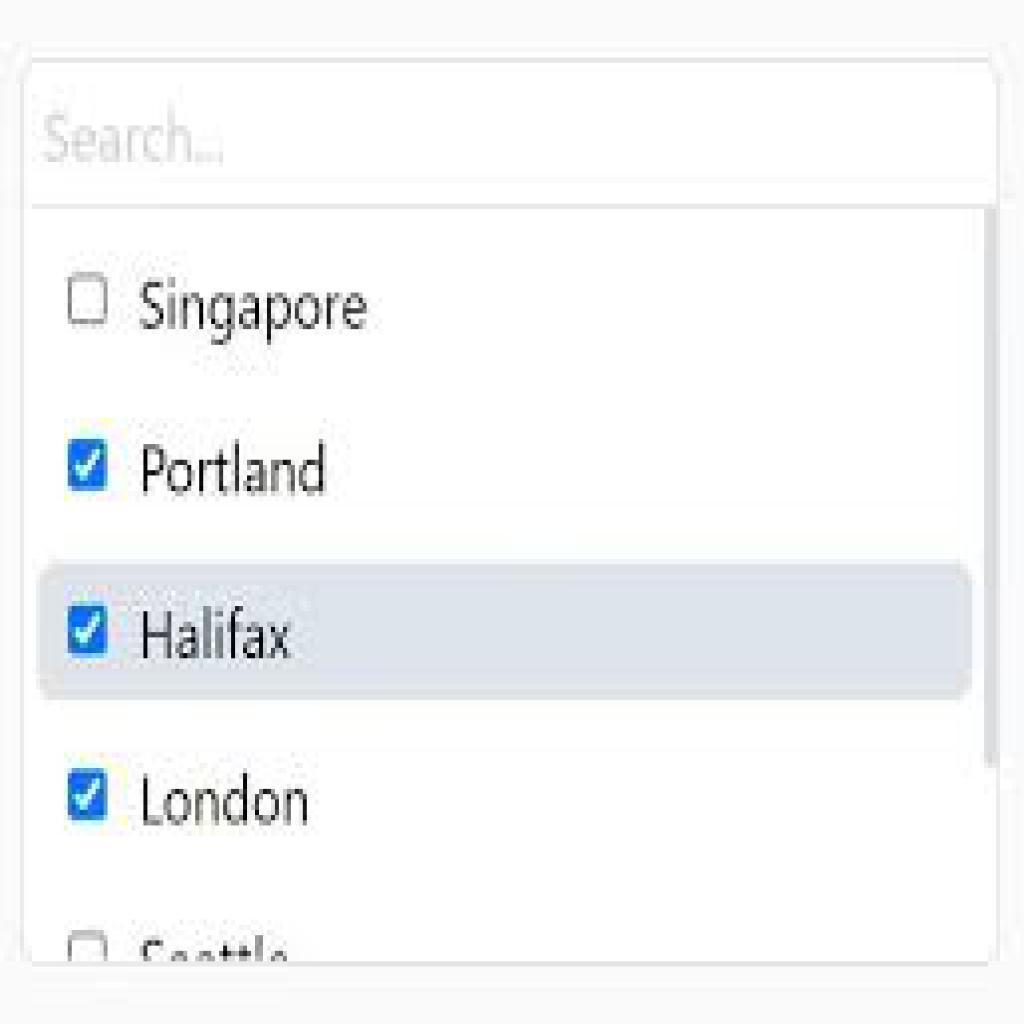checkbox: (66, 442, 112, 493), (66, 273, 112, 324), (69, 770, 111, 823), (69, 603, 109, 656)
input: (22, 58, 1001, 208)
label: (140, 275, 379, 347), (140, 441, 337, 505), (137, 599, 301, 672), (140, 769, 322, 830)
